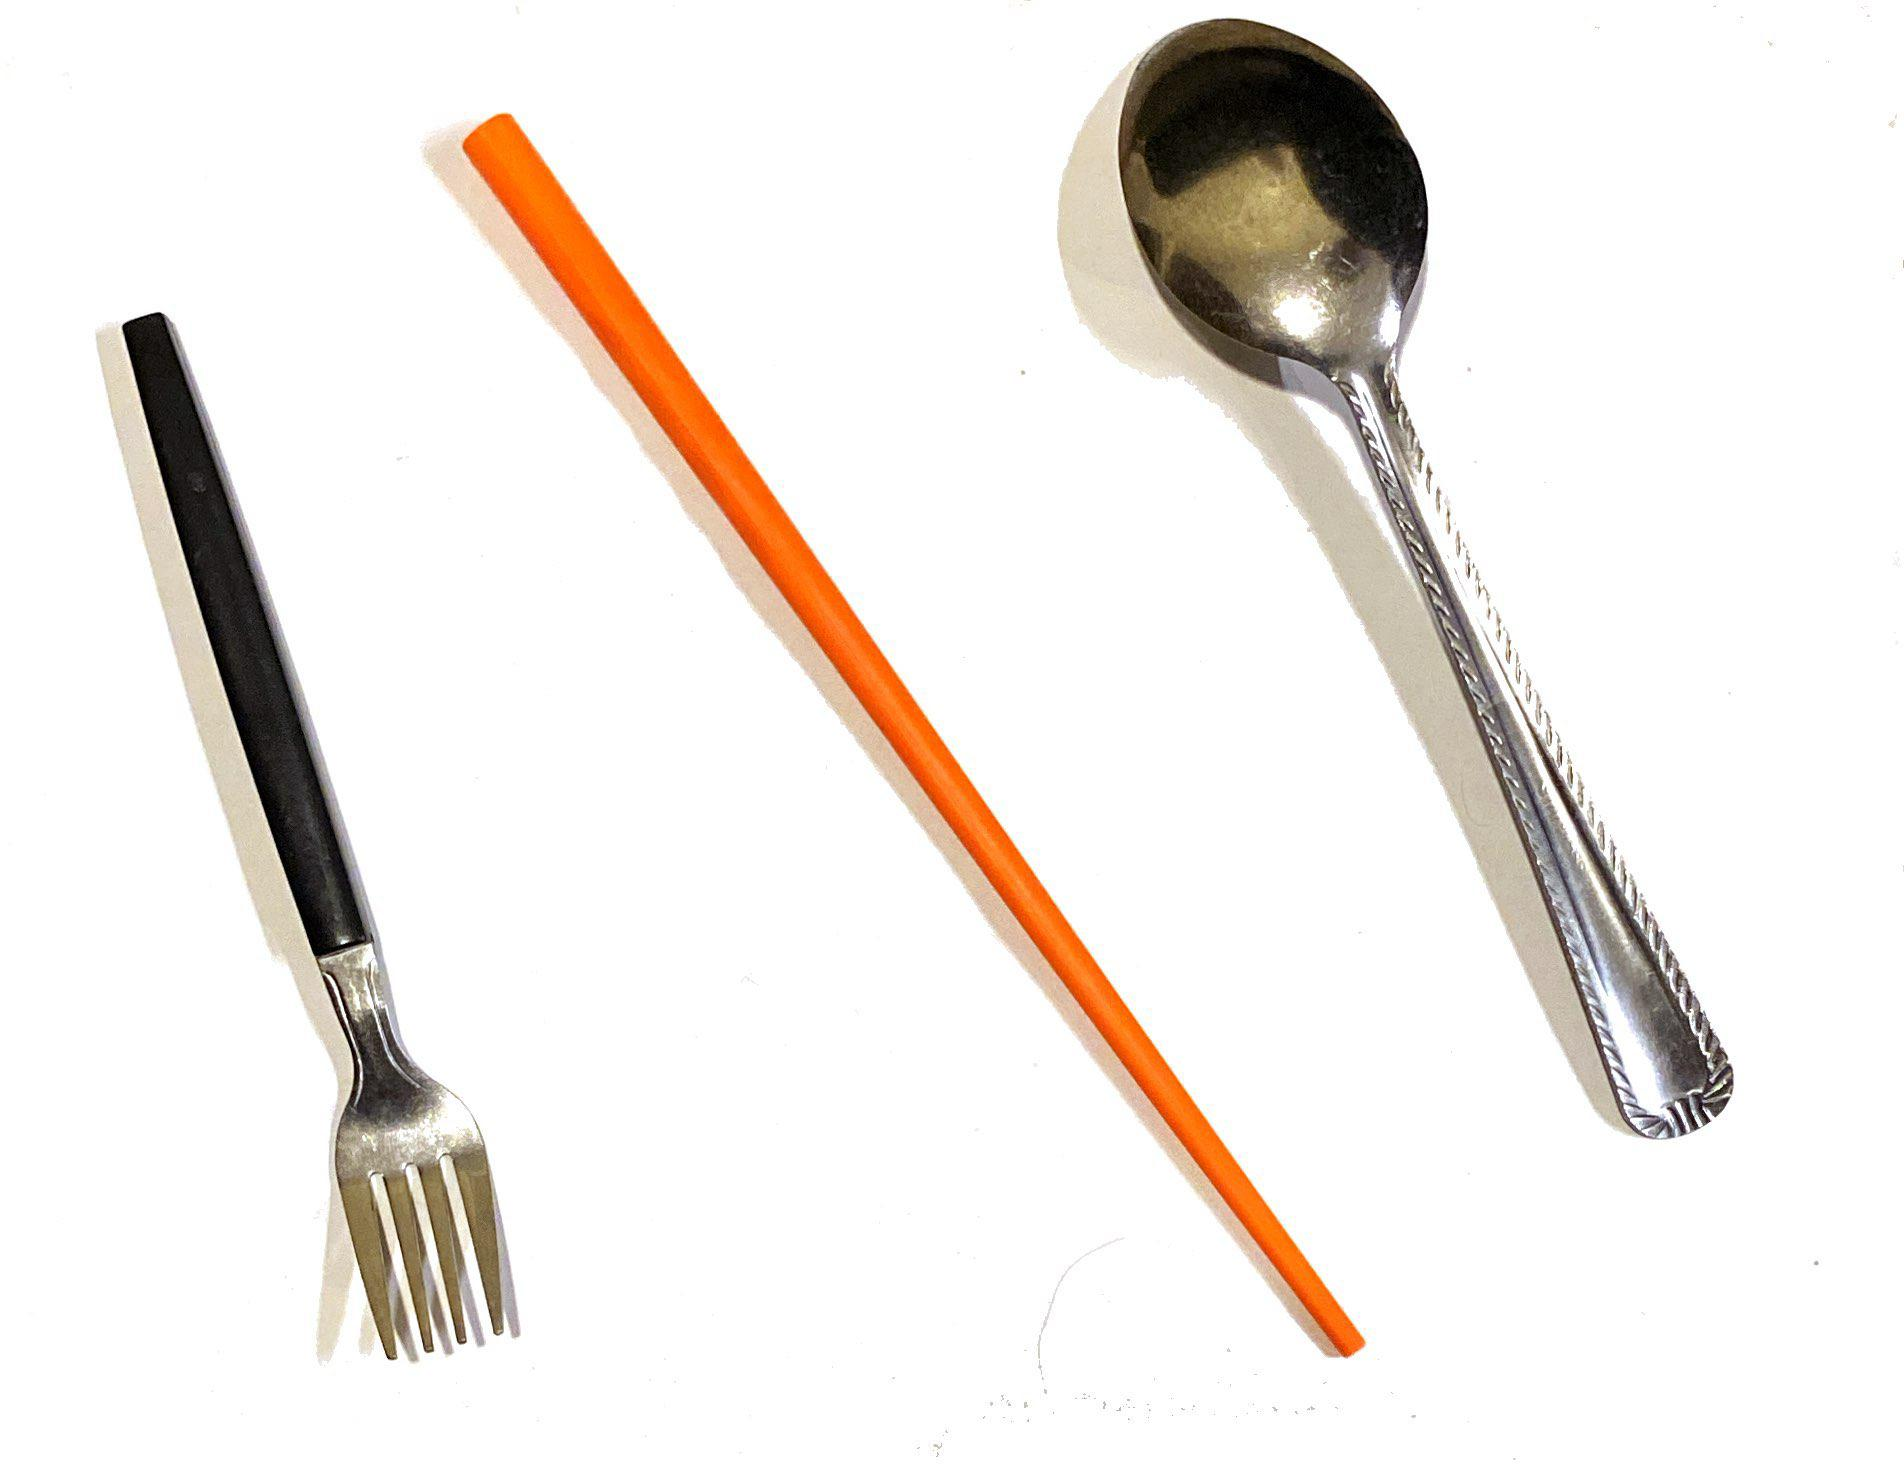Chopstick: (446, 95, 1378, 1407)
Fork: (75, 268, 536, 1399)
Spoon: (1097, 2, 1842, 1157)
